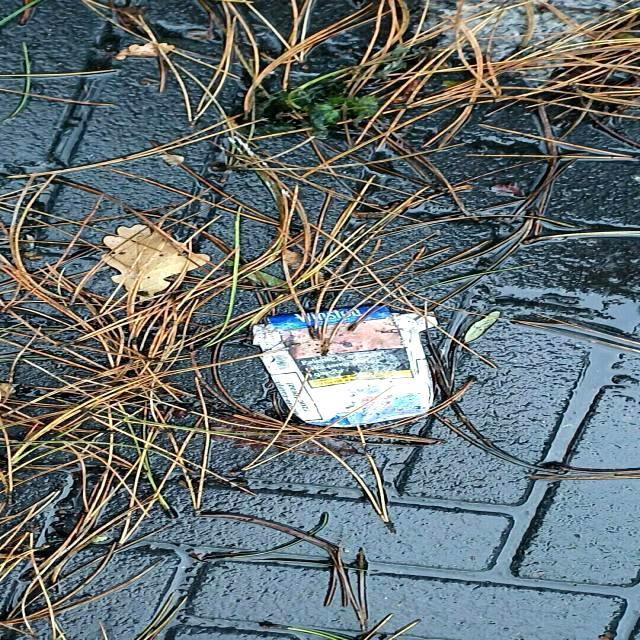Paper: (247, 304, 441, 428)
